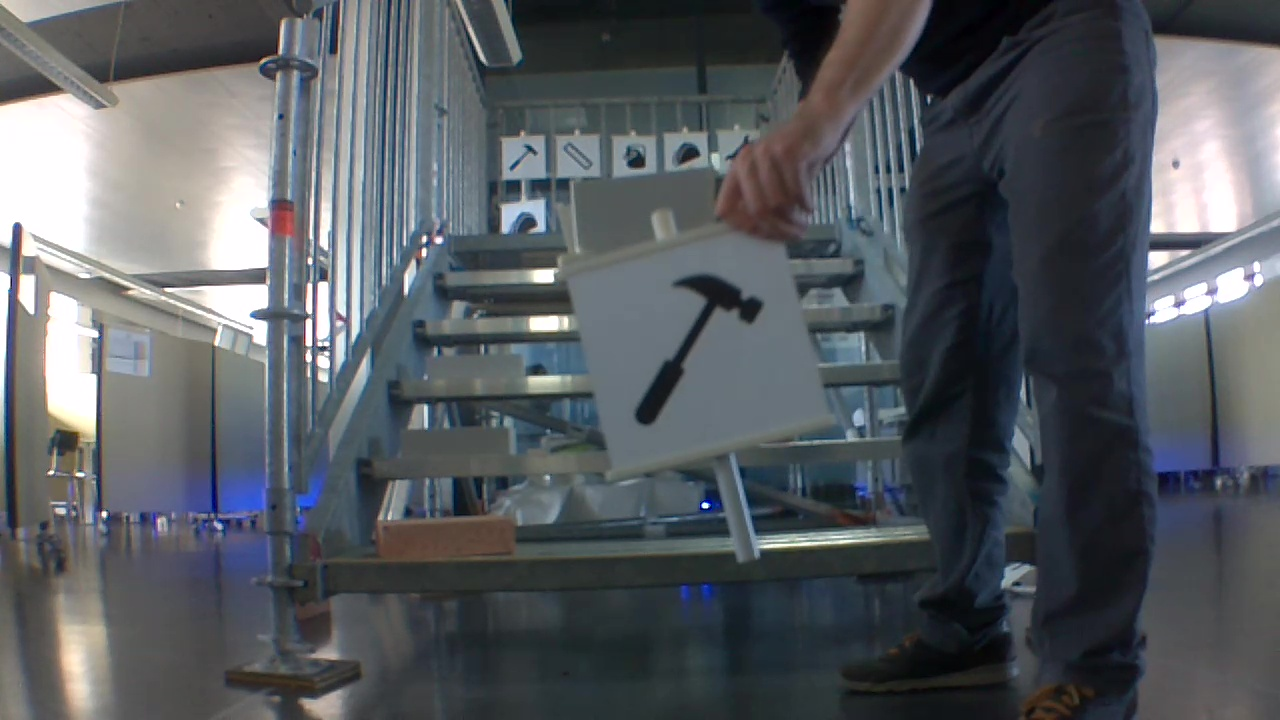brick: (371, 515, 518, 563), (398, 422, 516, 458), (420, 350, 520, 382)
bucket: (620, 141, 649, 169)
hammer: (633, 267, 764, 429), (509, 142, 537, 175)
ruler: (563, 138, 595, 170)
taco: (507, 209, 540, 237), (671, 141, 705, 167)
